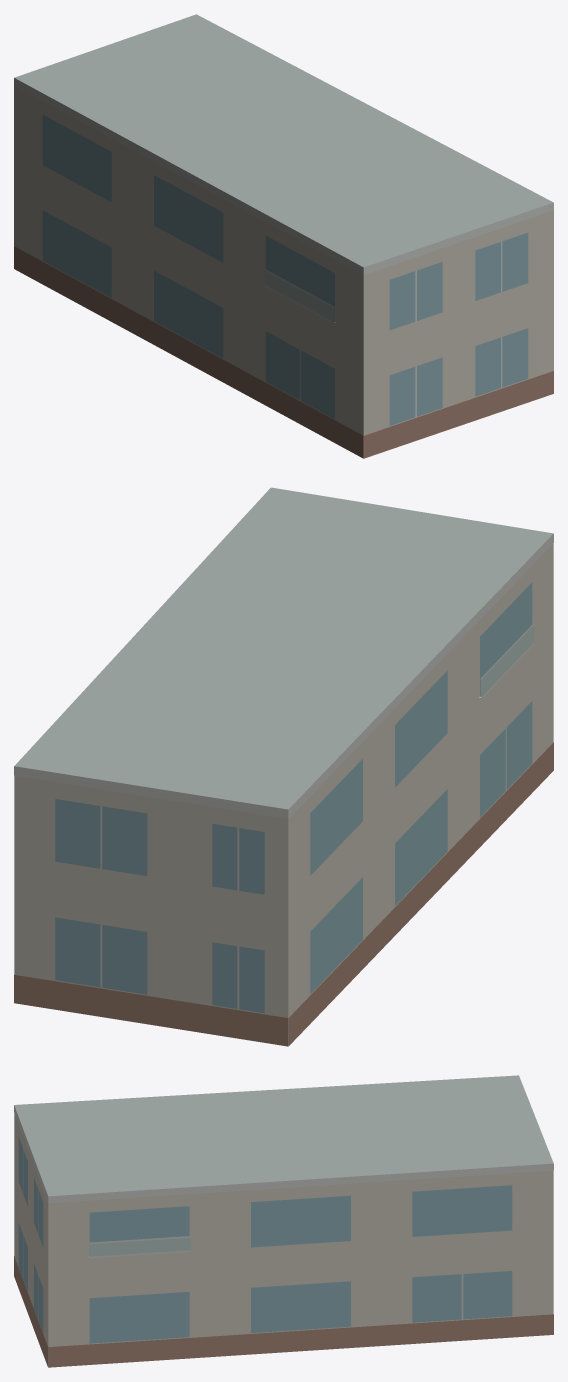
Rendered from survey-upis-32707323.glb.
The picture shows the model from 3 angles, top to bottom: view 1: azimuth 30°, elevation 25°; view 2: azimuth 150°, elevation 25°; view 3: azimuth 270°, elevation 25°; orthographic projection. The views are drawn at different scales.
Visible parts, largest first — view 1: survey-upis-32707323.tmp; view 2: survey-upis-32707323.tmp; view 3: survey-upis-32707323.tmp.
Boxes of the visible parts, left/top/right/bottom form: survey-upis-32707323.tmp: left=14, top=14, right=553, bottom=458; survey-upis-32707323.tmp: left=14, top=487, right=553, bottom=1046; survey-upis-32707323.tmp: left=14, top=1075, right=553, bottom=1367.
Size of the model in its own units: 9.26 by 6.1 by 17.43.
